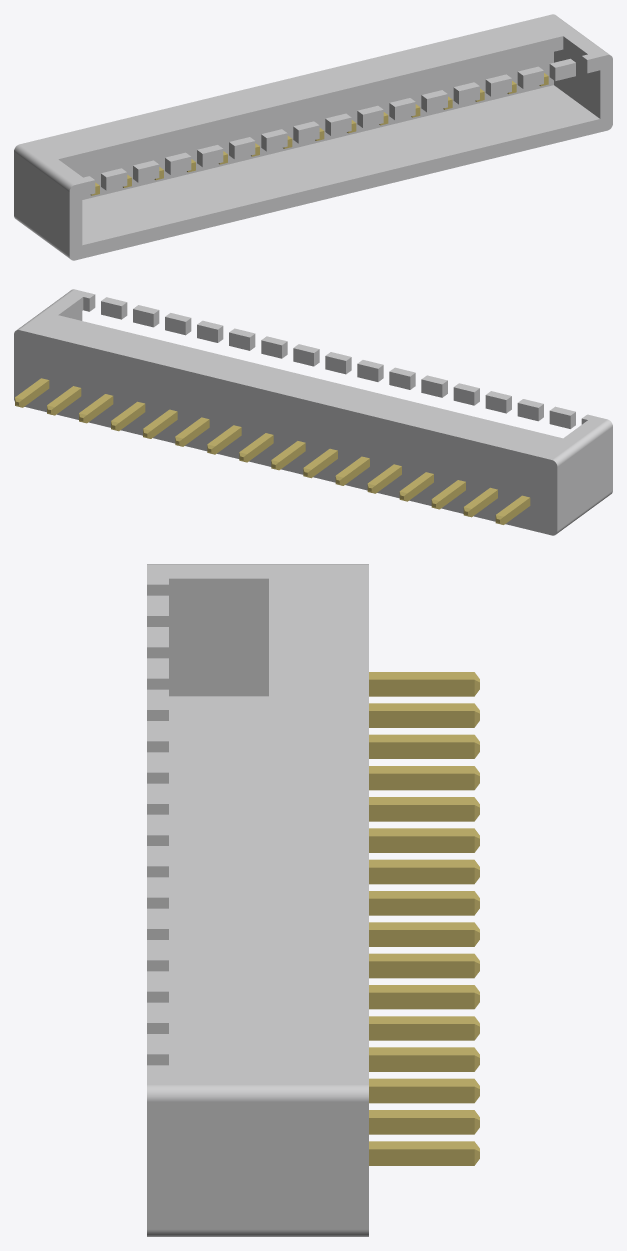
File: jst_ph_16pin.glb
3 views of the same model, one above another, from view 1: azimuth 30°, elevation 25°; view 2: azimuth 150°, elevation 25°; view 3: azimuth 270°, elevation 25° (orthographic). The views are drawn at different scales.
Parts seen in each view (by area): view 1: world; view 2: world; view 3: world.
Boxes of the visible parts, x1=… form: world: x1=14, y1=14, x2=612, y2=260; world: x1=14, y1=289, x2=612, y2=535; world: x1=147, y1=564, x2=479, y2=1236.
Size of the model in its own units: 33.9 by 4.5 by 9.
